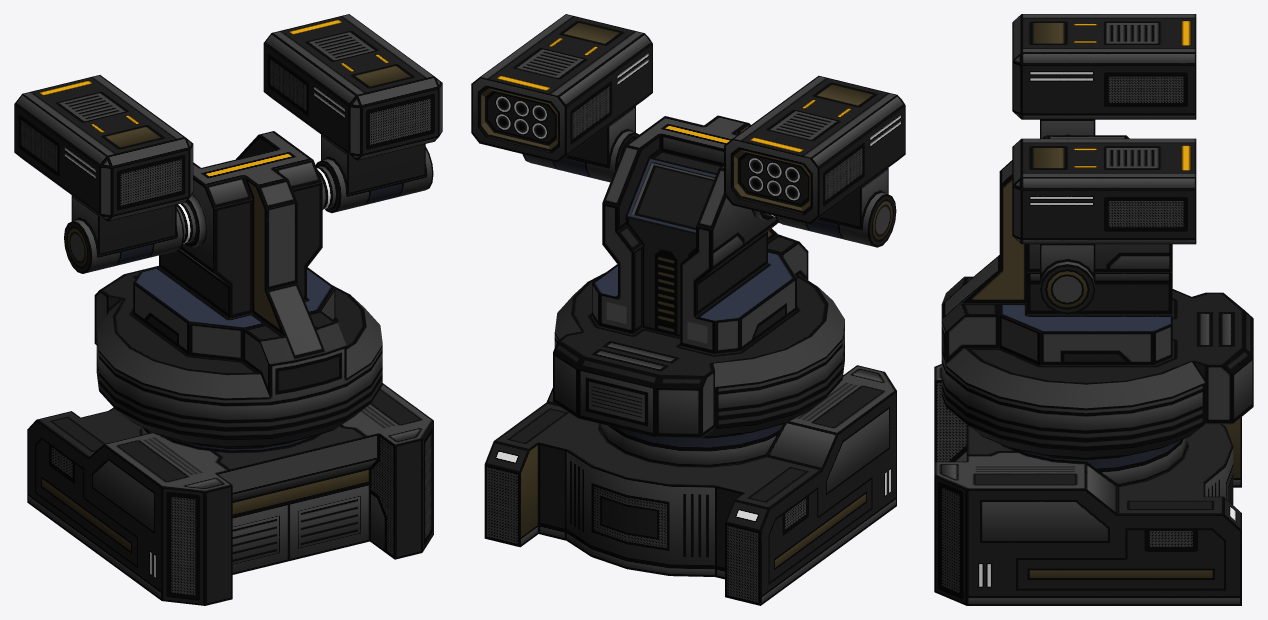
Rendered from missile_tower_001.fbx.
3 renders of one model, left to right at view 1: azimuth 30°, elevation 25°; view 2: azimuth 150°, elevation 25°; view 3: azimuth 270°, elevation 25°, orthographic. The views are drawn at different scales.
Parts seen in each view (by area): view 1: turret_y, base, turret_x; view 2: turret_y, base, turret_x; view 3: turret_y, base, turret_x.
Boxes of the visible parts, x1,y1,x2,y2 form: turret_y: (94, 131, 382, 447); base: (27, 383, 433, 605); turret_x: (14, 14, 442, 273); turret_y: (553, 115, 844, 438); base: (484, 365, 896, 605); turret_x: (471, 14, 905, 247); turret_y: (941, 135, 1253, 458); base: (934, 364, 1241, 605); turret_x: (1012, 14, 1196, 314).
Size of the model in its own units: 220 by 265 by 173.
